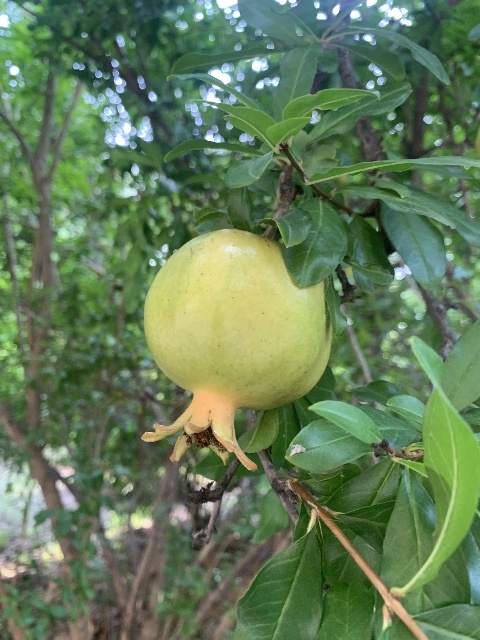mid-growth: (139, 229, 331, 472)
